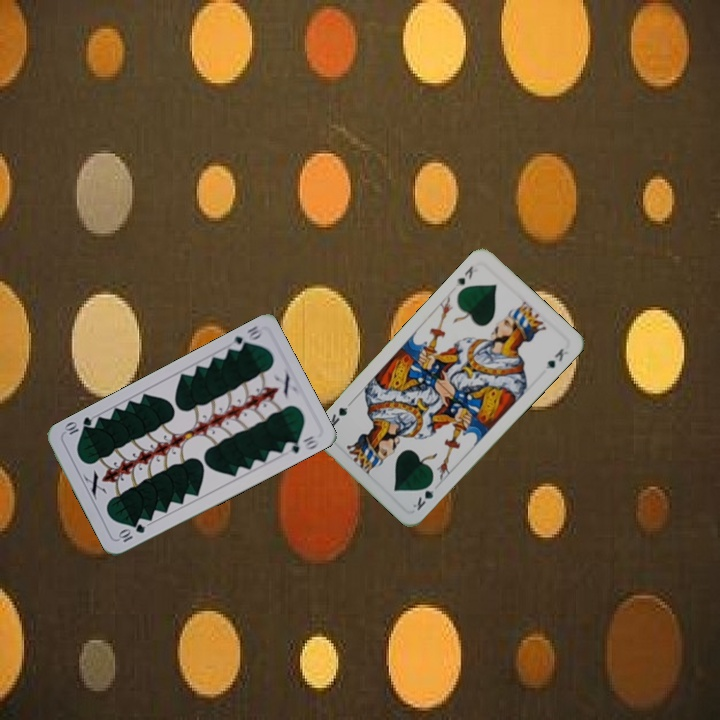G10: (225, 322, 264, 354), (114, 520, 148, 545)
GK: (408, 477, 437, 513), (451, 262, 476, 289)
